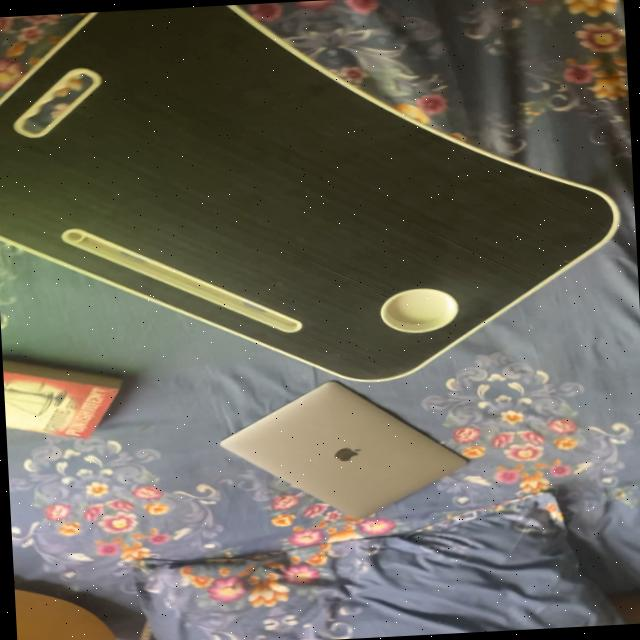book: (2, 352, 126, 457)
laptop: (208, 372, 476, 528)
table: (0, 0, 636, 397)
